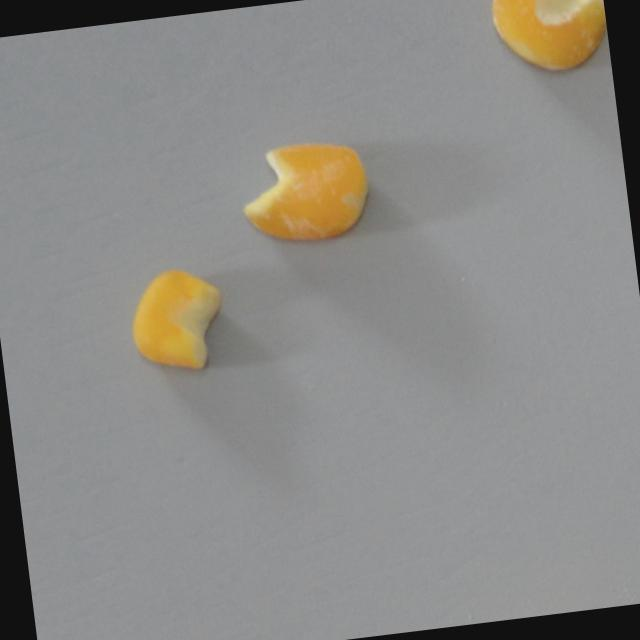no_canjicado: (126, 264, 229, 377), (492, 0, 611, 78)
pelicula: (237, 135, 376, 247)
